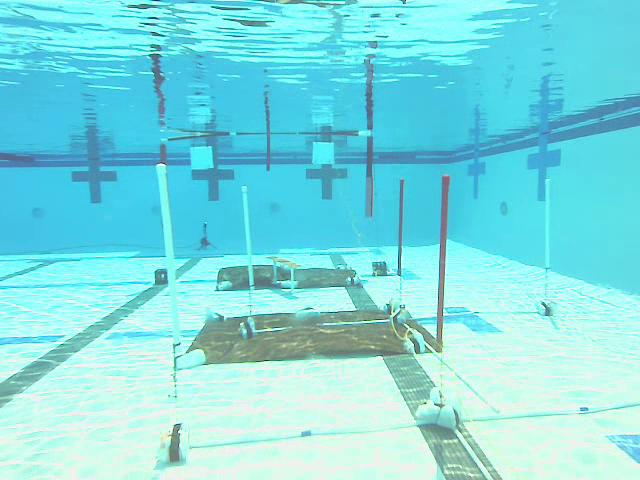black_poster: (434, 176, 451, 344), (395, 180, 406, 276)
divider: (266, 131, 271, 170)
left_gate_poster: (366, 137, 374, 216)
right_gate_poster: (160, 145, 168, 217)
white_poster: (154, 165, 180, 346), (240, 185, 254, 286), (543, 178, 550, 267)
